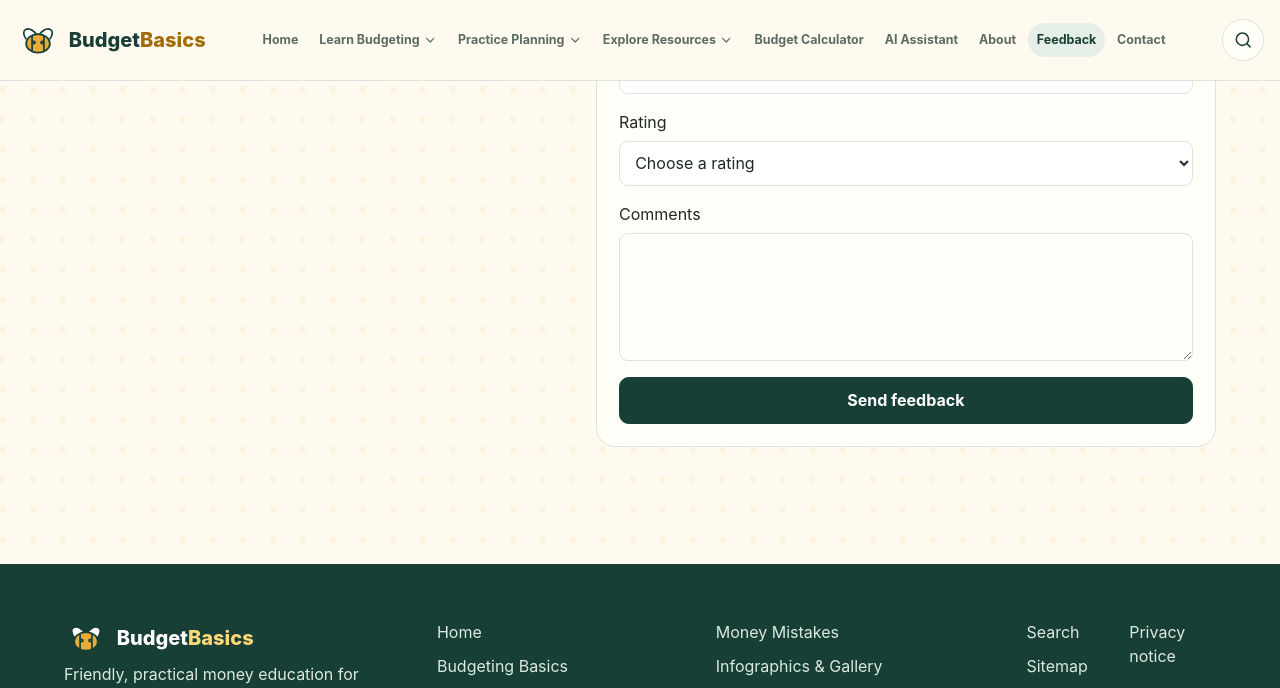
Test: discovery and support pages › validates and locally completes /feedback without submitting
(page scrolled)
Click the button "Send feedback".
click(906, 400)  # box [619,377,1193,424]
(page scrolled)
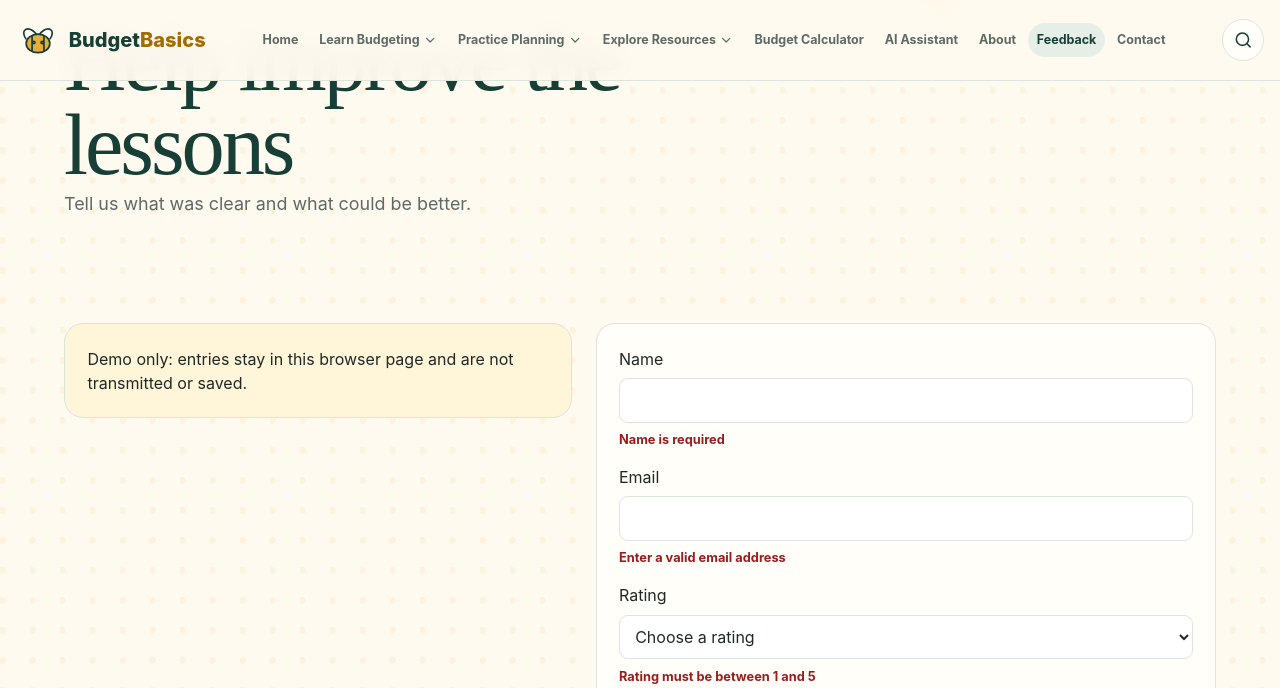
Expected: the message "Name is required" is shown, [619,432,725,447]
Type "Student" into the field labelled "Name".
click(906, 400); type("Student")  # box [619,378,1193,423]
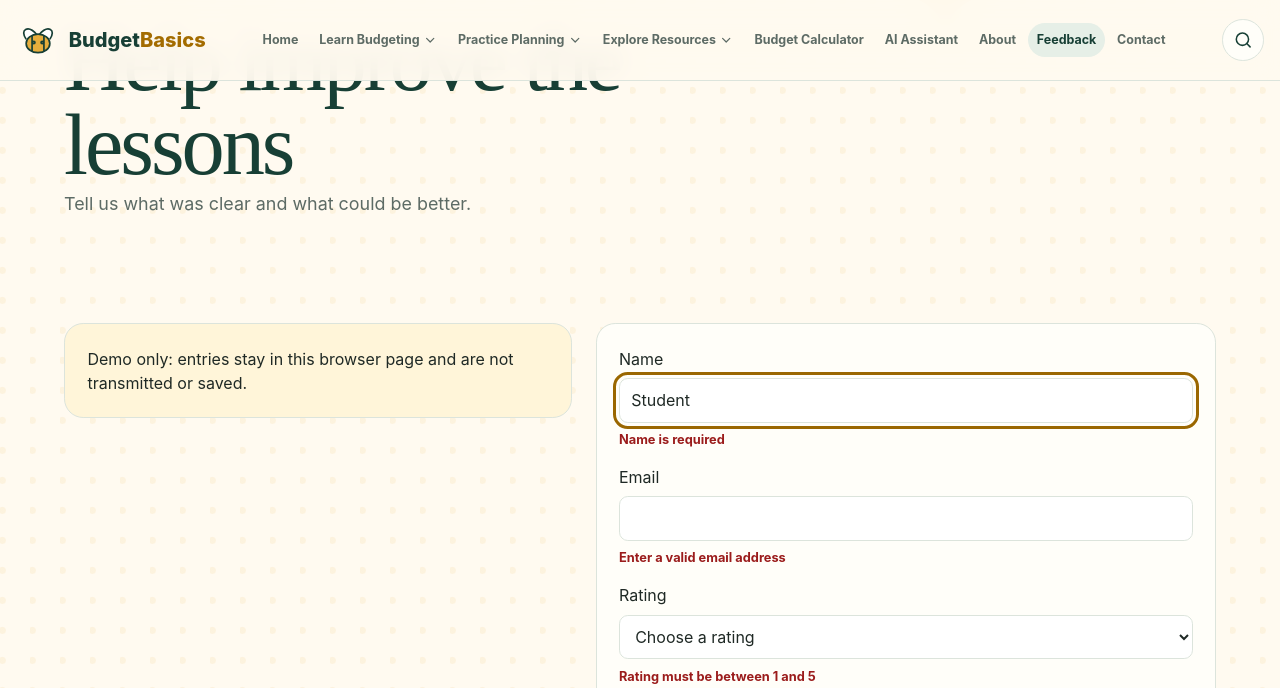
Type "student@example.com" into the field labelled "Email".
click(906, 519); type("student@example.com")  # box [619,496,1193,541]
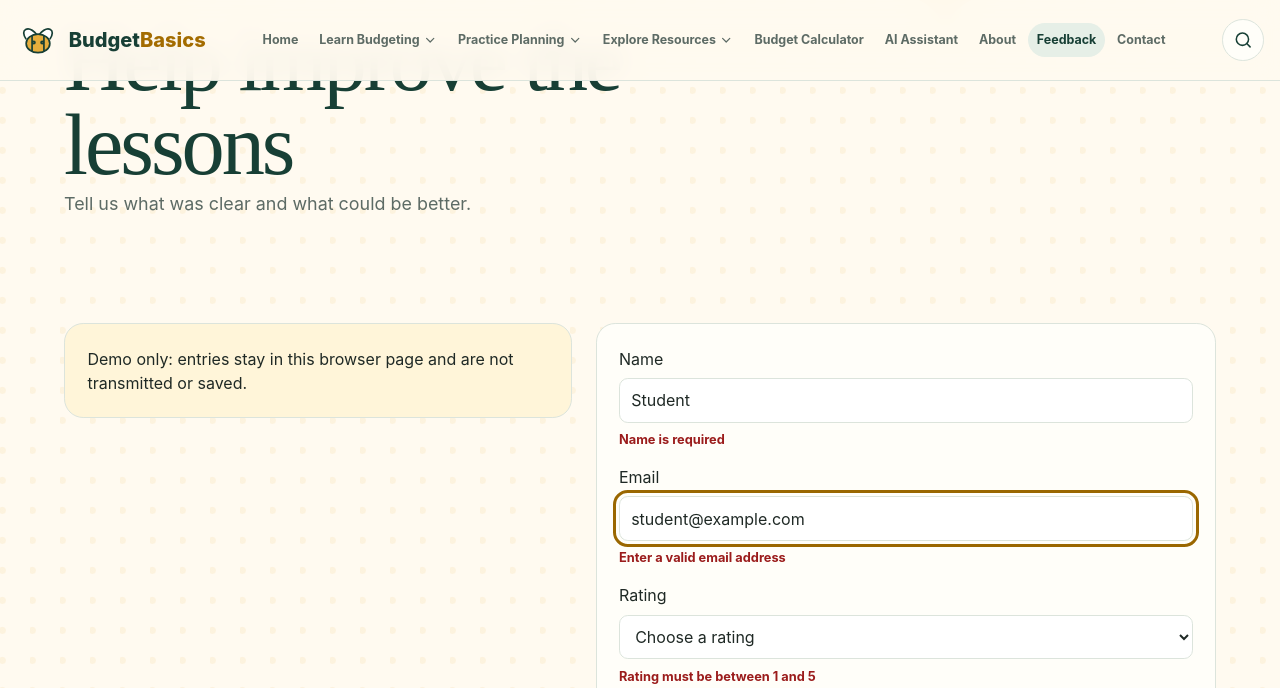
Select "5" in the dropdown labelled "Rating" at coordinates (906, 637), box [619,614,1193,659]
(page scrolled)
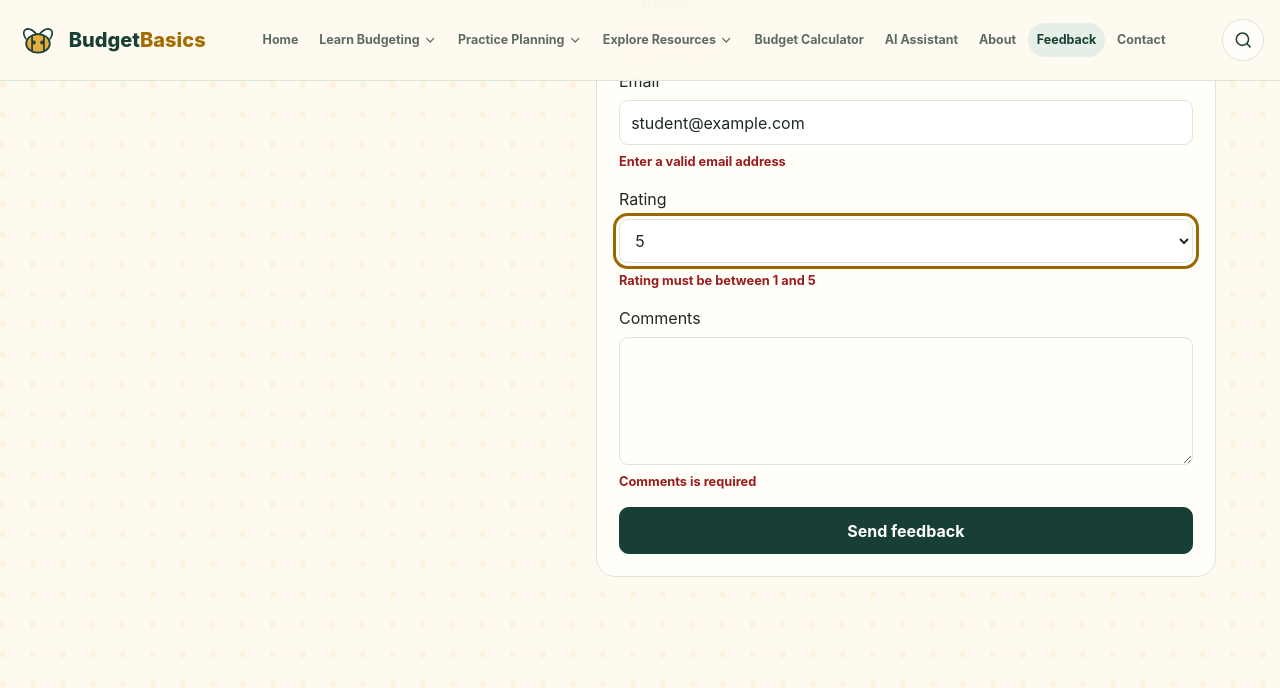
Type "Helpful lessons" into the text box labelled "Comments".
click(906, 401); type("Helpful lessons")  # box [619,337,1193,465]
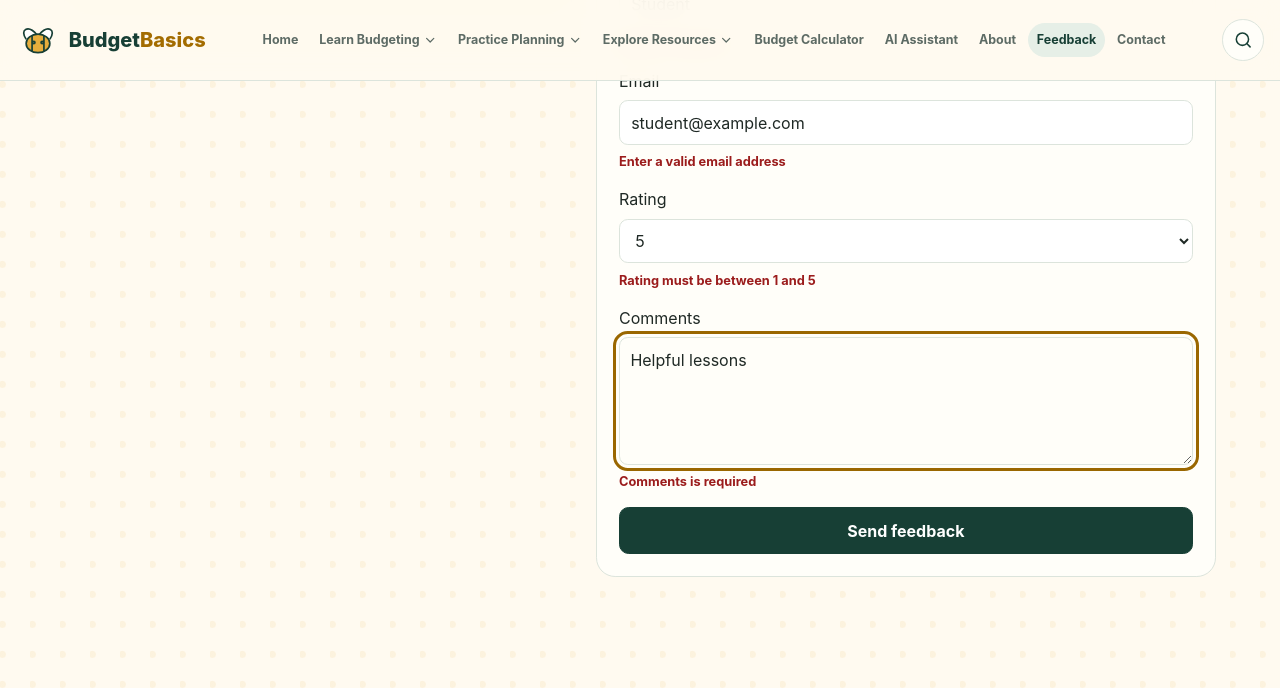
Click the button "Send feedback".
click(906, 531)  # box [619,507,1193,554]
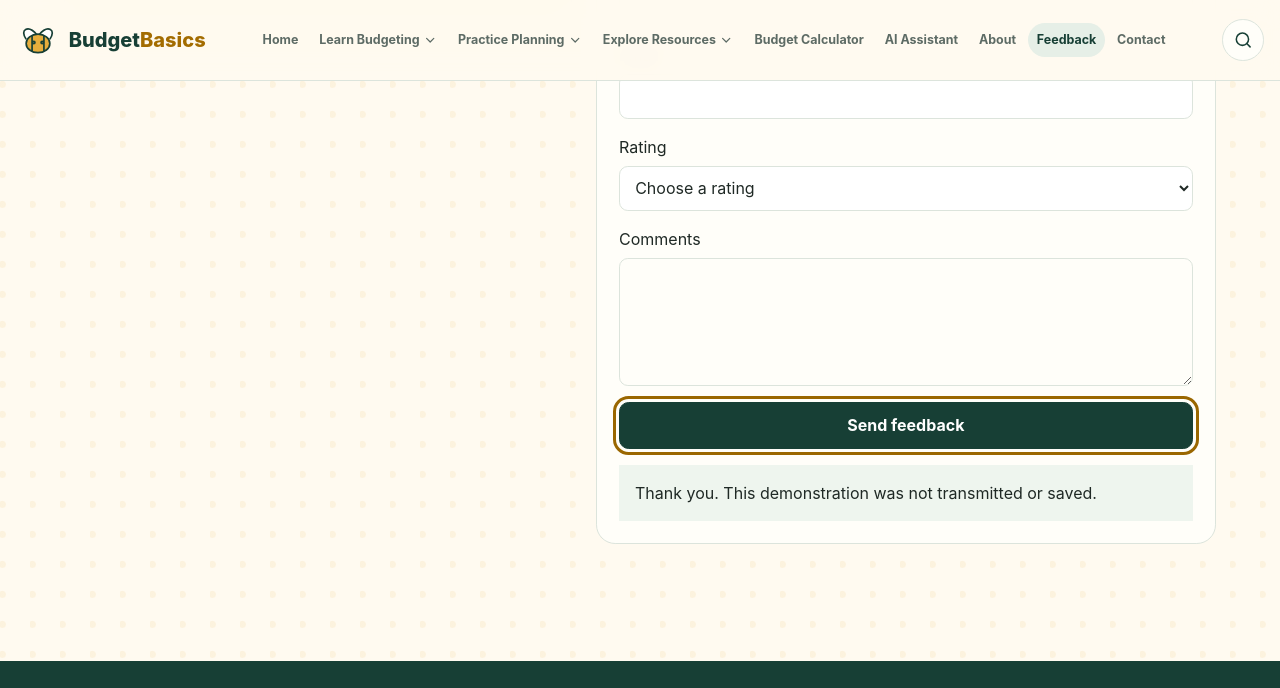
Expected: the text "Thank you. This demonstration was not transmitted or saved." is shown, [619,465,1193,521]
Expected: the field labelled "Email" is empty, [619,74,1193,119]
Expected: the text box labelled "Comments" is empty, [619,258,1193,386]
